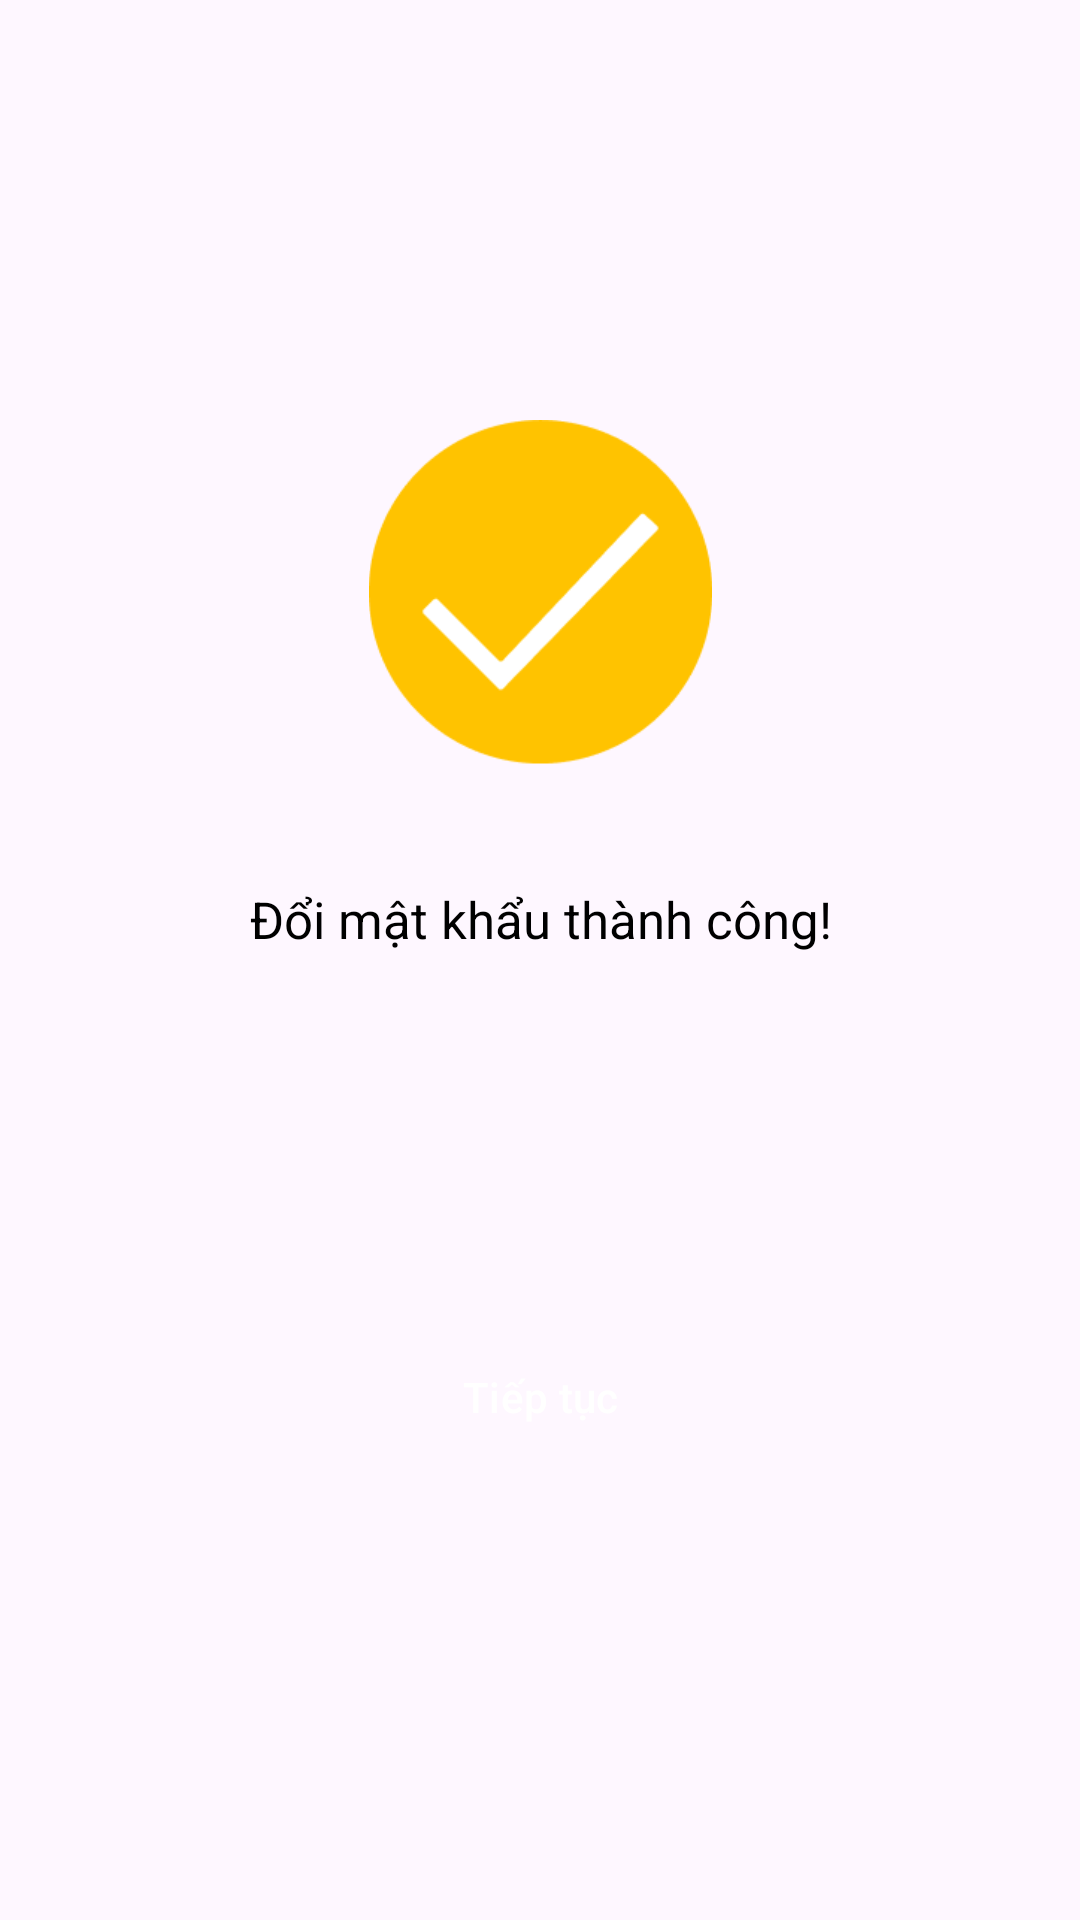

Icon click points for this 1080*1920 phone screenshot, format [x,y]:
success: [540,592]
